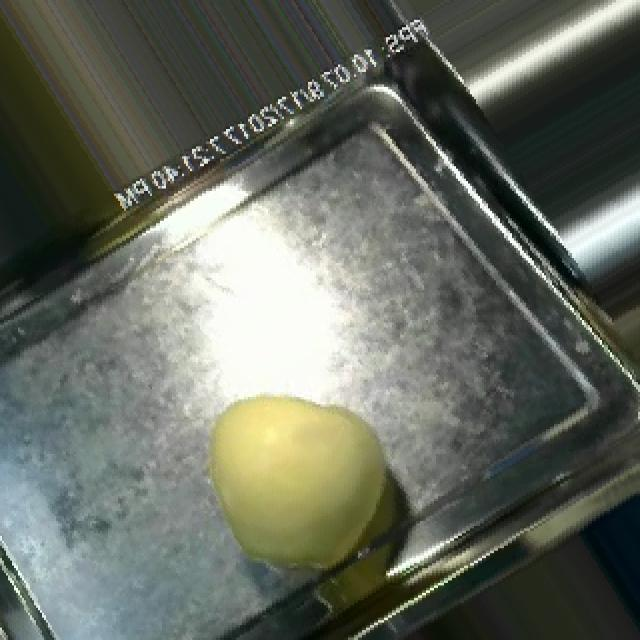apple: (133, 369, 431, 613)
